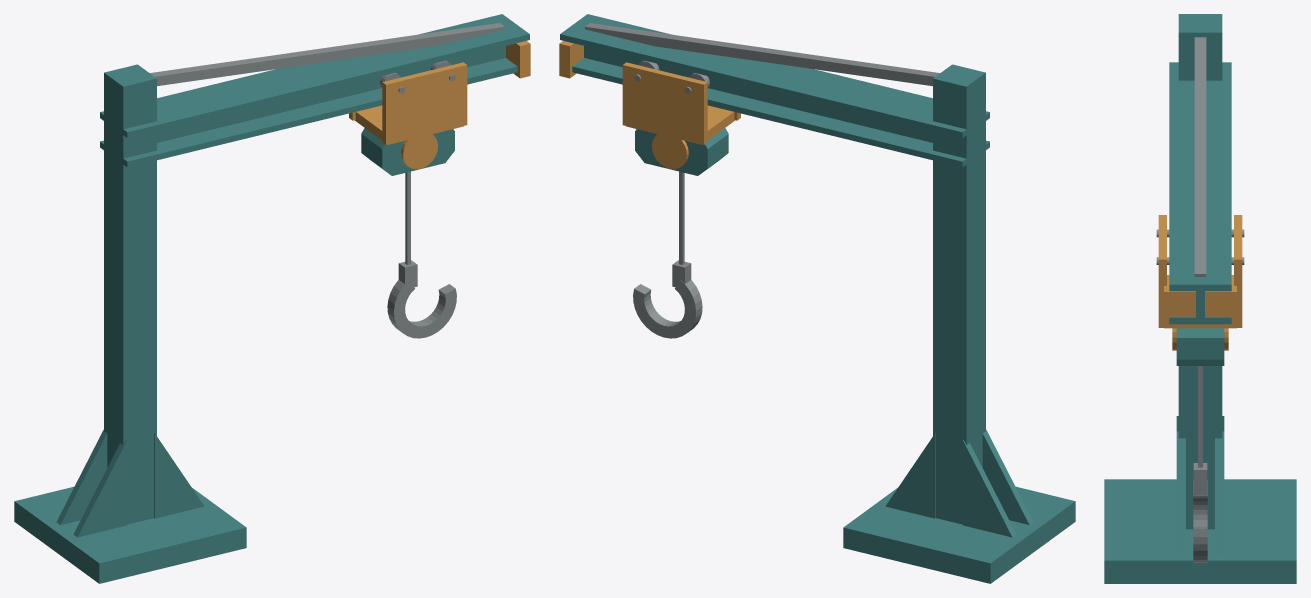
3 views of the same model, side by side, from view 1: azimuth 30°, elevation 25°; view 2: azimuth 150°, elevation 25°; view 3: azimuth 270°, elevation 25° (orthographic). The views are drawn at different scales.
Visible parts, largest first — view 1: WholeVerticalColumn, WholeContinuousISectionCantileverBeam, WholeGroundColumnFoot, NearWholeTrolleyCheek, WholeUpperDiagonalJibTie, LeftFootGusset_0, RightFootGusset_0, WholeOpenJHook, WholeChamferedHoistHousing, LeftFootGusset_1, NearWholeHoistCover, WholeTrolleyLowerBridge (+1 smaller); view 2: WholeVerticalColumn, WholeContinuousISectionCantileverBeam, WholeGroundColumnFoot, FarWholeTrolleyCheek, WholeUpperDiagonalJibTie, LeftFootGusset_1, RightFootGusset_1, WholeOpenJHook, WholeChamferedHoistHousing, LeftFootGusset_0, FarWholeHoistCover, WholeTrolleyLowerBridge (+1 smaller); view 3: WholeGroundColumnFoot, WholeContinuousISectionCantileverBeam, WholeVerticalColumn, WholeUpperDiagonalJibTie, OuterWholeTrolleyStop, WholeChamferedHoistHousing, RightFootGusset_0, RightFootGusset_1, WholeOpenJHook, NearWholeTrolleyCheek, FarWholeTrolleyCheek, WholeFixedSuspensionCable (+1 smaller).
Boxes of the visible parts, bbox=[...] form: WholeVerticalColumn: bbox=[104, 64, 156, 524]; WholeContinuousISectionCantileverBeam: bbox=[100, 14, 529, 167]; WholeGroundColumnFoot: bbox=[14, 486, 246, 583]; NearWholeTrolleyCheek: bbox=[382, 62, 467, 144]; WholeUpperDiagonalJibTie: bbox=[150, 23, 504, 86]; LeftFootGusset_0: bbox=[73, 440, 126, 537]; RightFootGusset_0: bbox=[154, 433, 204, 518]; WholeOpenJHook: bbox=[387, 280, 456, 338]; WholeChamferedHoistHousing: bbox=[361, 128, 454, 175]; LeftFootGusset_1: bbox=[56, 429, 107, 524]; NearWholeHoistCover: bbox=[401, 134, 437, 169]; WholeTrolleyLowerBridge: bbox=[355, 105, 463, 144]; WholeVerticalColumn: bbox=[933, 64, 985, 524]; WholeContinuousISectionCantileverBeam: bbox=[560, 14, 989, 167]; WholeGroundColumnFoot: bbox=[843, 486, 1075, 583]; FarWholeTrolleyCheek: bbox=[622, 62, 707, 144]; WholeUpperDiagonalJibTie: bbox=[585, 23, 939, 86]; LeftFootGusset_1: bbox=[963, 440, 1016, 537]; RightFootGusset_1: bbox=[885, 433, 935, 518]; WholeOpenJHook: bbox=[633, 280, 702, 338]; WholeChamferedHoistHousing: bbox=[635, 128, 728, 175]; LeftFootGusset_0: bbox=[982, 429, 1033, 524]; FarWholeHoistCover: bbox=[652, 134, 688, 169]; WholeTrolleyLowerBridge: bbox=[626, 105, 734, 144]; WholeGroundColumnFoot: bbox=[1104, 479, 1296, 583]; WholeContinuousISectionCantileverBeam: bbox=[1169, 62, 1231, 324]; WholeVerticalColumn: bbox=[1178, 14, 1222, 529]; WholeUpperDiagonalJibTie: bbox=[1194, 37, 1206, 276]; OuterWholeTrolleyStop: bbox=[1164, 286, 1236, 328]; WholeChamferedHoistHousing: bbox=[1176, 328, 1224, 365]; RightFootGusset_0: bbox=[1176, 431, 1185, 555]; RightFootGusset_1: bbox=[1215, 431, 1224, 555]; WholeOpenJHook: bbox=[1193, 481, 1207, 562]; NearWholeTrolleyCheek: bbox=[1158, 215, 1166, 327]; FarWholeTrolleyCheek: bbox=[1234, 215, 1242, 327]; WholeFixedSuspensionCable: bbox=[1198, 366, 1202, 467].
Bounding box in the file's own units: 3.28 × 3.13 × 1.05.
